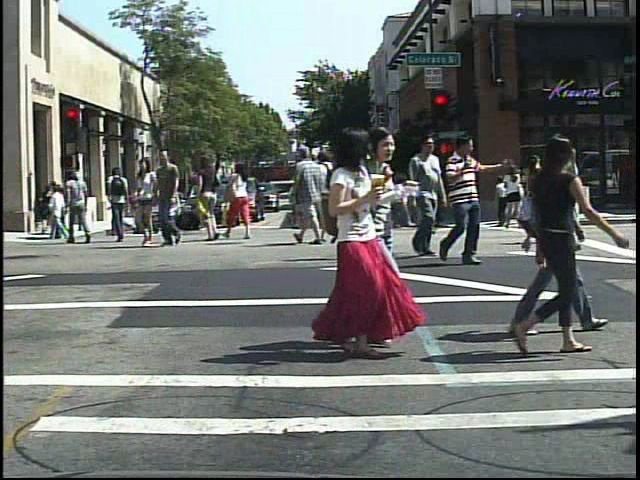person: (502, 129, 630, 369), (302, 125, 400, 366), (510, 132, 610, 338), (440, 129, 499, 268), (347, 134, 395, 264), (400, 136, 447, 261), (547, 134, 593, 250), (364, 129, 401, 248), (153, 147, 191, 252), (131, 159, 166, 252), (294, 142, 324, 243), (316, 148, 345, 248), (194, 153, 223, 242), (63, 166, 94, 245), (105, 163, 135, 243), (226, 160, 254, 240), (501, 161, 529, 232), (330, 161, 350, 230)
